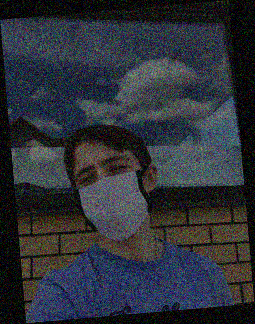with_mask: (74, 144, 151, 242)
